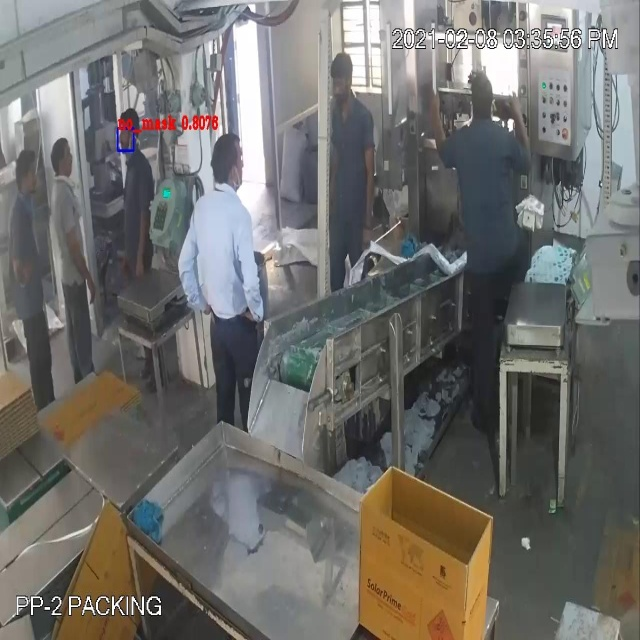Sin_guantes: (224, 216, 268, 336), (176, 209, 216, 332), (61, 212, 99, 310), (502, 84, 536, 187), (358, 125, 383, 248), (426, 84, 460, 172), (324, 119, 348, 238), (121, 198, 152, 276), (9, 229, 34, 298)
